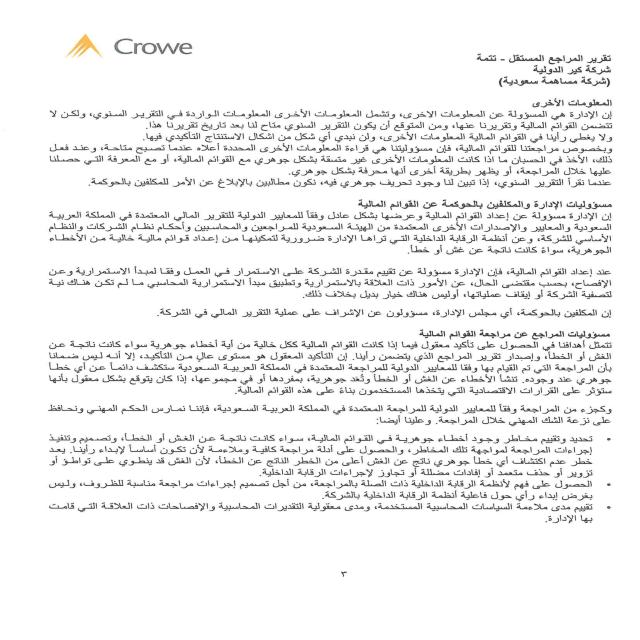auditor_report: (467, 50, 613, 65)
